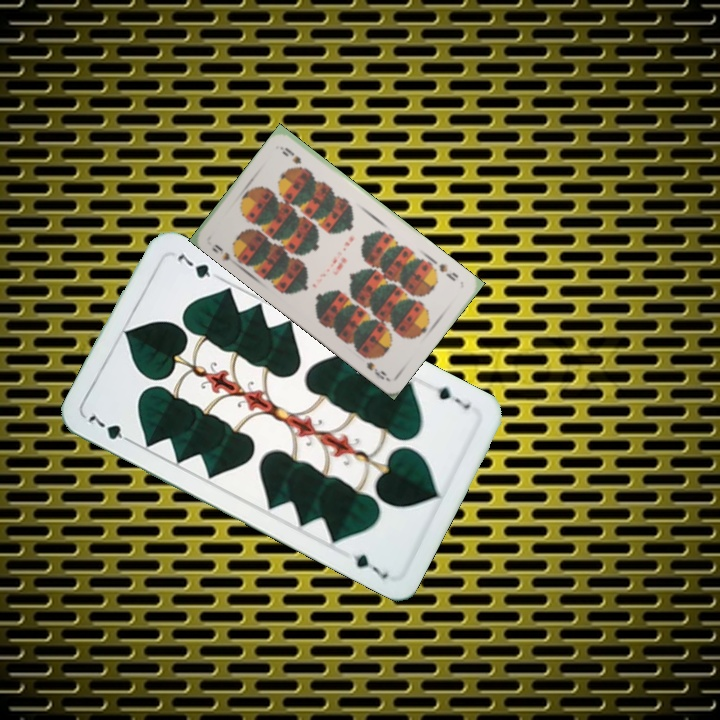G7: (82, 410, 137, 447), (433, 382, 473, 412)
S9: (208, 240, 242, 265), (435, 259, 461, 284)
